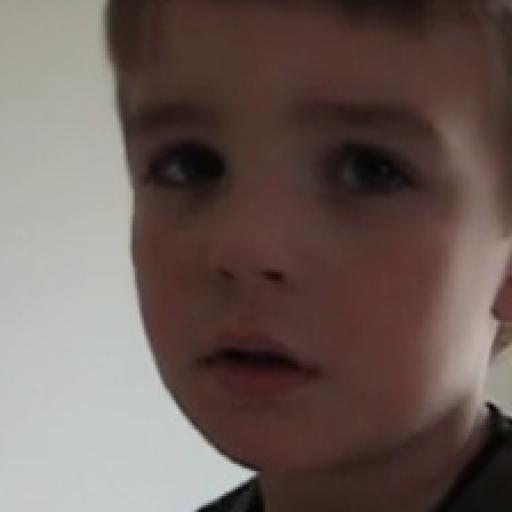Autism: (107, 18, 512, 508)
